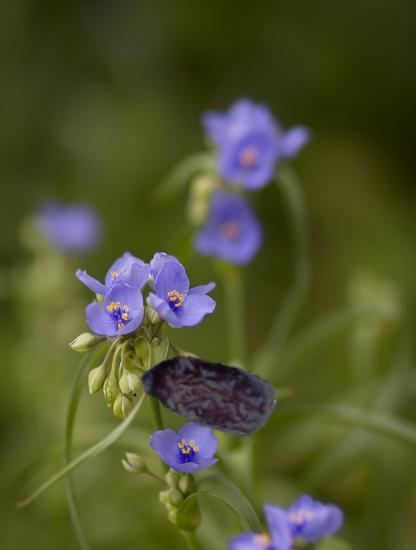Dates: (139, 326, 277, 464)
